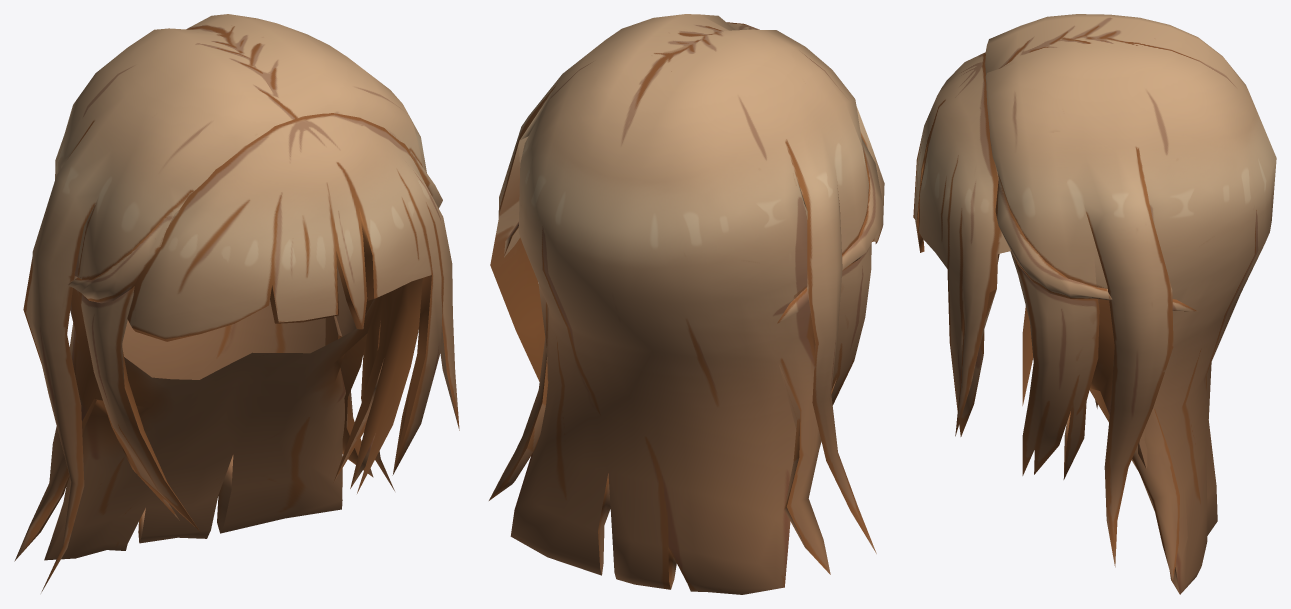
File: hairvariant.glb
3 views of the same model, side by side, from view 1: azimuth 30°, elevation 25°; view 2: azimuth 150°, elevation 25°; view 3: azimuth 270°, elevation 25° (orthographic). The views are drawn at different scales.
Parts seen in each view (by area): view 1: hairvariant; view 2: hairvariant; view 3: hairvariant.
Boxes of the visible parts, x1=… form: hairvariant: x1=14, y1=14, x2=459, y2=592; hairvariant: x1=489, y1=14, x2=884, y2=594; hairvariant: x1=913, y1=14, x2=1276, y2=594.
Size of the model in its own units: 1.06 by 1.47 by 0.962.
1 material, 1 textured.
